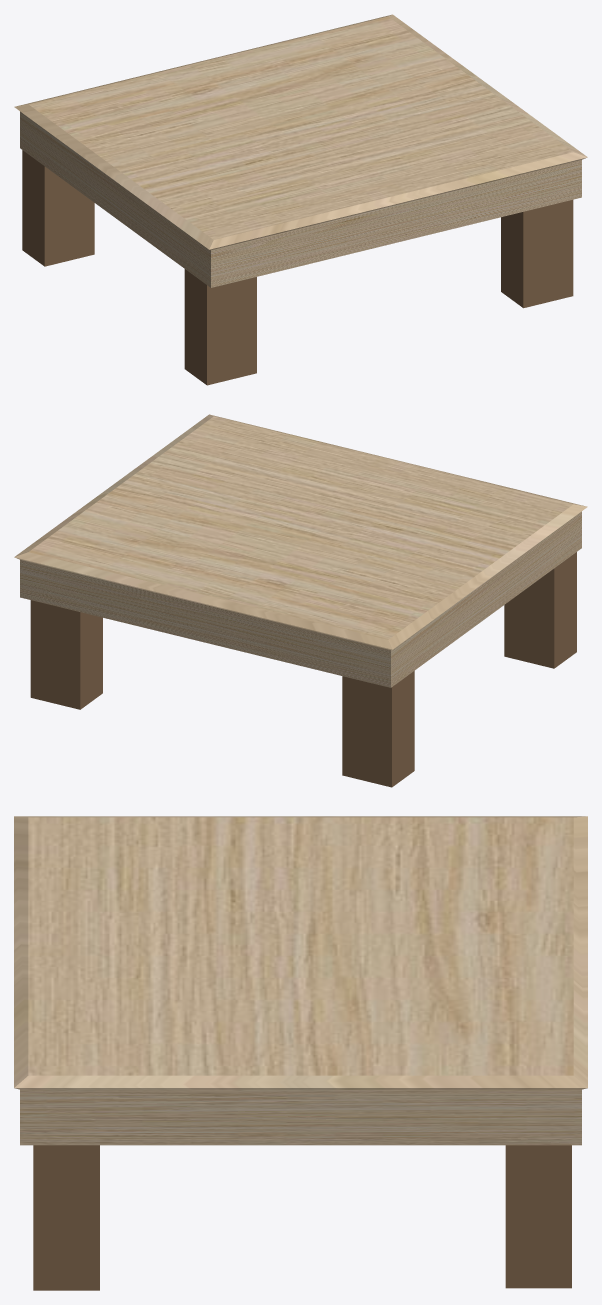
The model's file is Meja.fbx.
The picture shows the model from 3 angles, top to bottom: view 1: azimuth 30°, elevation 25°; view 2: azimuth 150°, elevation 25°; view 3: azimuth 270°, elevation 25°; orthographic projection. The views are drawn at different scales.
Parts seen in each view (by area): view 1: Meja; view 2: Meja; view 3: Meja.
Boxes of the visible parts, <box> form: Meja: <box>14,14,587,385</box>; Meja: <box>14,414,587,787</box>; Meja: <box>14,816,587,1290</box>.
Bounding box in the file's own units: 321 × 118 × 286.
